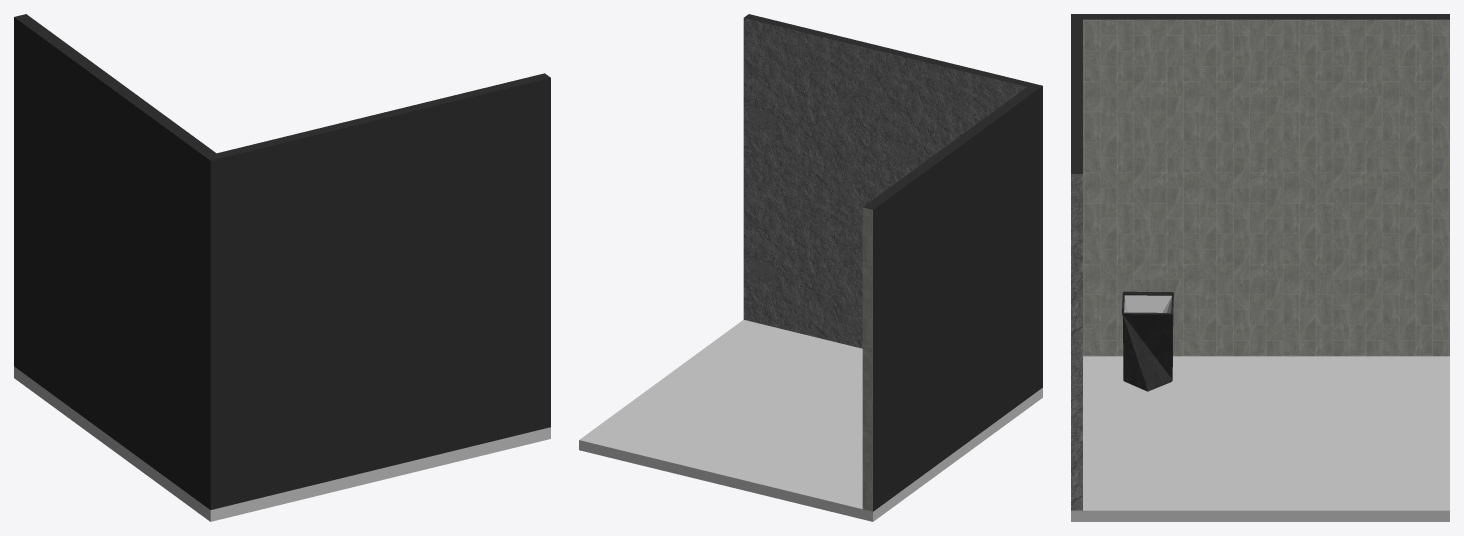
The model's file is VaseSquareTwisted.fbx.
3 views of the same model, side by side, from view 1: azimuth 30°, elevation 25°; view 2: azimuth 150°, elevation 25°; view 3: azimuth 270°, elevation 25° (orthographic). The views are drawn at different scales.
Parts seen in each view (by area): view 1: XStudio; view 2: XStudio; view 3: XStudio, Vase Square Twisted.
Boxes of the visible parts, x1,y1,x2,y2 form: XStudio: (14, 14, 550, 521); XStudio: (579, 14, 1042, 521); XStudio: (1071, 14, 1449, 521); Vase Square Twisted: (1122, 291, 1173, 391).
Bounding box in the file's own units: 1252 × 1270 × 1252.
